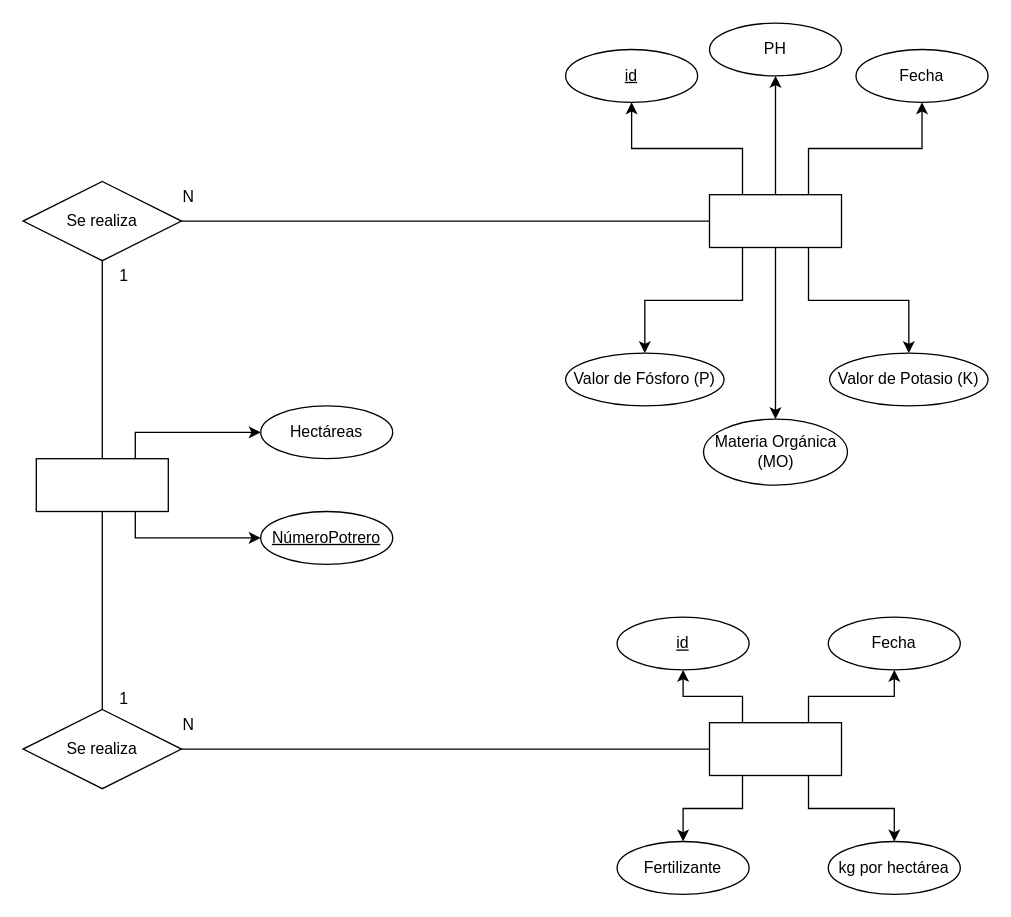
Some shapes in this 1011 by 917 pixel diagram are drawn without their labels. Here are the shapes that lost their labels. From the top down, the centre of each, then its label:
At pixel 775 220: "ANÁLISIS".
At pixel 101 484: "POTREROS".
At pixel 775 748: "FERTILIZACIÓN".
